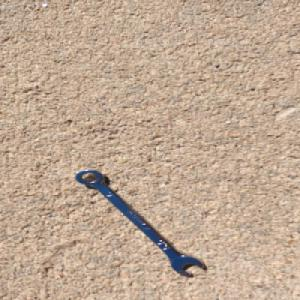Wrench: (74, 167, 206, 277)
